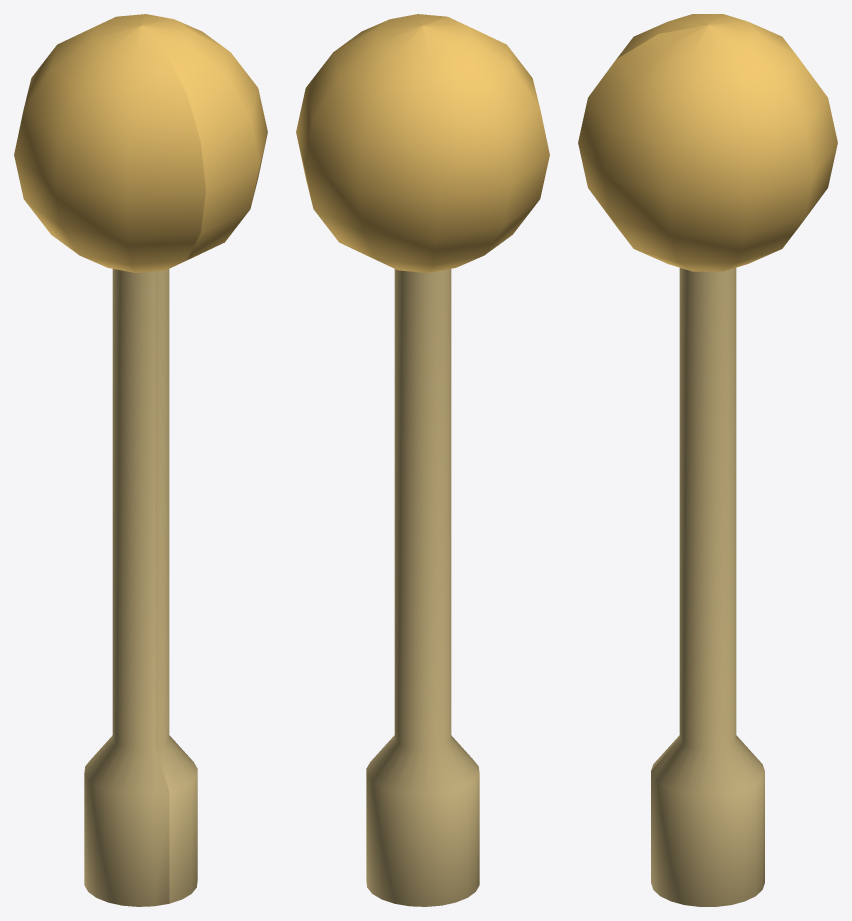
File: orrery_tray_melody.glb
3 views of the same model, side by side, from view 1: azimuth 30°, elevation 25°; view 2: azimuth 150°, elevation 25°; view 3: azimuth 270°, elevation 25° (orthographic).
Visible parts, largest first — view 1: Orrery_Solar_Axis; view 2: Orrery_Solar_Axis; view 3: Orrery_Solar_Axis.
Part boxes in pixels (<box>): Orrery_Solar_Axis: <box>14,14,267,906</box>; Orrery_Solar_Axis: <box>296,14,549,906</box>; Orrery_Solar_Axis: <box>578,14,837,906</box>.
Bounding box in the file's own units: 0.0839 × 0.3213 × 0.0882.
